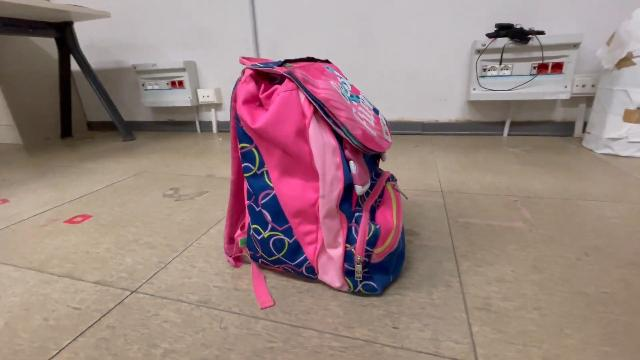Backpack: (214, 49, 413, 315)
